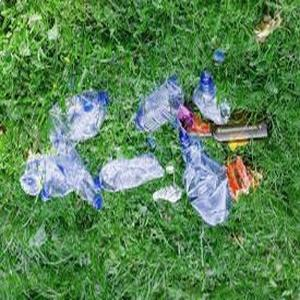Plastic: (168, 142, 230, 229), (94, 151, 163, 195)
